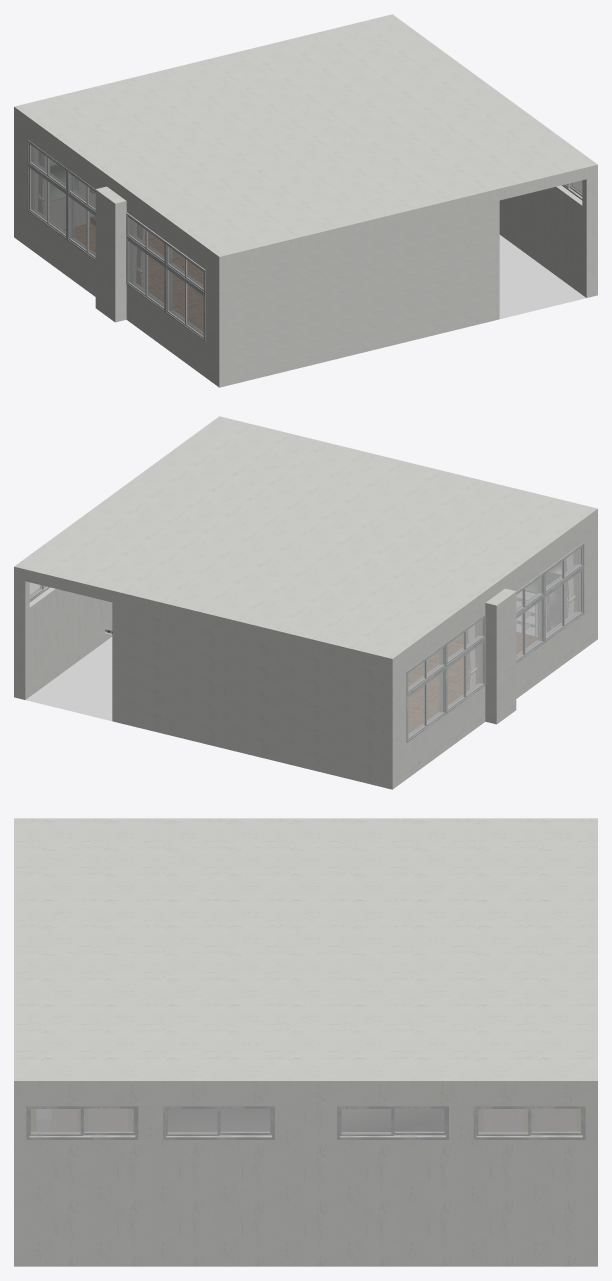
The model's file is classroom_forUnity.fbx.
3 renders of one model, top to bottom at view 1: azimuth 30°, elevation 25°; view 2: azimuth 150°, elevation 25°; view 3: azimuth 270°, elevation 25°, orthographic. The views are drawn at different scales.
Visible parts, largest first — view 1: classroom.hallway.ceiling, classroom.wall.back, classroom.hallway.ceiling.001, classroom.wall.window, wall.hallway, classroom.hallway.floor, classroom.floor, classroom.wall.forward, classRoom.window.sash, classRoom.window.sash.001, classRoom.window.sash.003, window.glass.Large (+7 smaller); view 2: classroom.hallway.ceiling, classroom.wall.forward, classroom.hallway.ceiling.001, classroom.wall.window, wall.hallway, classroom.hallway.floor, classroom.floor, classRoom.window.sash.003, classRoom.window.sash, classRoom.window.sash.002, window.glass.Large.008, window.glass.Large.010 (+9 smaller); view 3: classroom.hallway.ceiling, wall.hallway, classroom.hallway.ceiling.001, wall.hallway.window, classroom.wall.door, classroom.forwardDoor.L.001, classroom.forwardDoor.L, classroom.forwardDoor.R.001, classroom.forwardDoor.R.
Part boxes in pixels (bbox=[...]): classroom.hallway.ceiling: bbox=[14, 38, 499, 268]; classroom.wall.back: bbox=[215, 200, 499, 387]; classroom.hallway.ceiling.001: bbox=[294, 14, 597, 200]; classroom.wall.window: bbox=[18, 122, 214, 383]; wall.hallway: bbox=[499, 176, 597, 297]; classroom.hallway.floor: bbox=[499, 235, 586, 318]; classroom.floor: bbox=[64, 223, 203, 331]; classroom.wall.forward: bbox=[14, 119, 95, 239]; classRoom.window.sash: bbox=[165, 241, 205, 341]; classRoom.window.sash.001: bbox=[126, 212, 166, 312]; classRoom.window.sash.003: bbox=[27, 140, 67, 239]; window.glass.Large: bbox=[166, 268, 185, 325]; classroom.hallway.ceiling: bbox=[112, 440, 597, 670]; classroom.wall.forward: bbox=[112, 602, 396, 789]; classroom.hallway.ceiling.001: bbox=[14, 416, 317, 602]; classroom.wall.window: bbox=[397, 524, 593, 785]; wall.hallway: bbox=[14, 578, 112, 699]; classroom.hallway.floor: bbox=[25, 637, 112, 720]; classroom.floor: bbox=[408, 633, 537, 733]; classRoom.window.sash.003: bbox=[406, 643, 446, 742]; classRoom.window.sash: bbox=[544, 542, 584, 642]; classRoom.window.sash.002: bbox=[446, 614, 485, 713]; window.glass.Large.008: bbox=[465, 640, 484, 697]; window.glass.Large.010: bbox=[426, 669, 445, 726]; classroom.hallway.ceiling: bbox=[14, 818, 597, 1012]; wall.hallway: bbox=[14, 1097, 597, 1266]; classroom.hallway.ceiling.001: bbox=[14, 1012, 597, 1097]; wall.hallway.window: bbox=[26, 1106, 585, 1139]; classroom.wall.door: bbox=[168, 1109, 443, 1131]; classroom.forwardDoor.L.001: bbox=[31, 1109, 84, 1131]; classroom.forwardDoor.L: bbox=[478, 1109, 531, 1131]; classroom.forwardDoor.R.001: bbox=[85, 1109, 133, 1131]; classroom.forwardDoor.R: bbox=[532, 1109, 580, 1131].
Bounding box in the file's own units: 10.3 × 3.35 × 9.4.
Materials: 50 (25 with a texture image).
